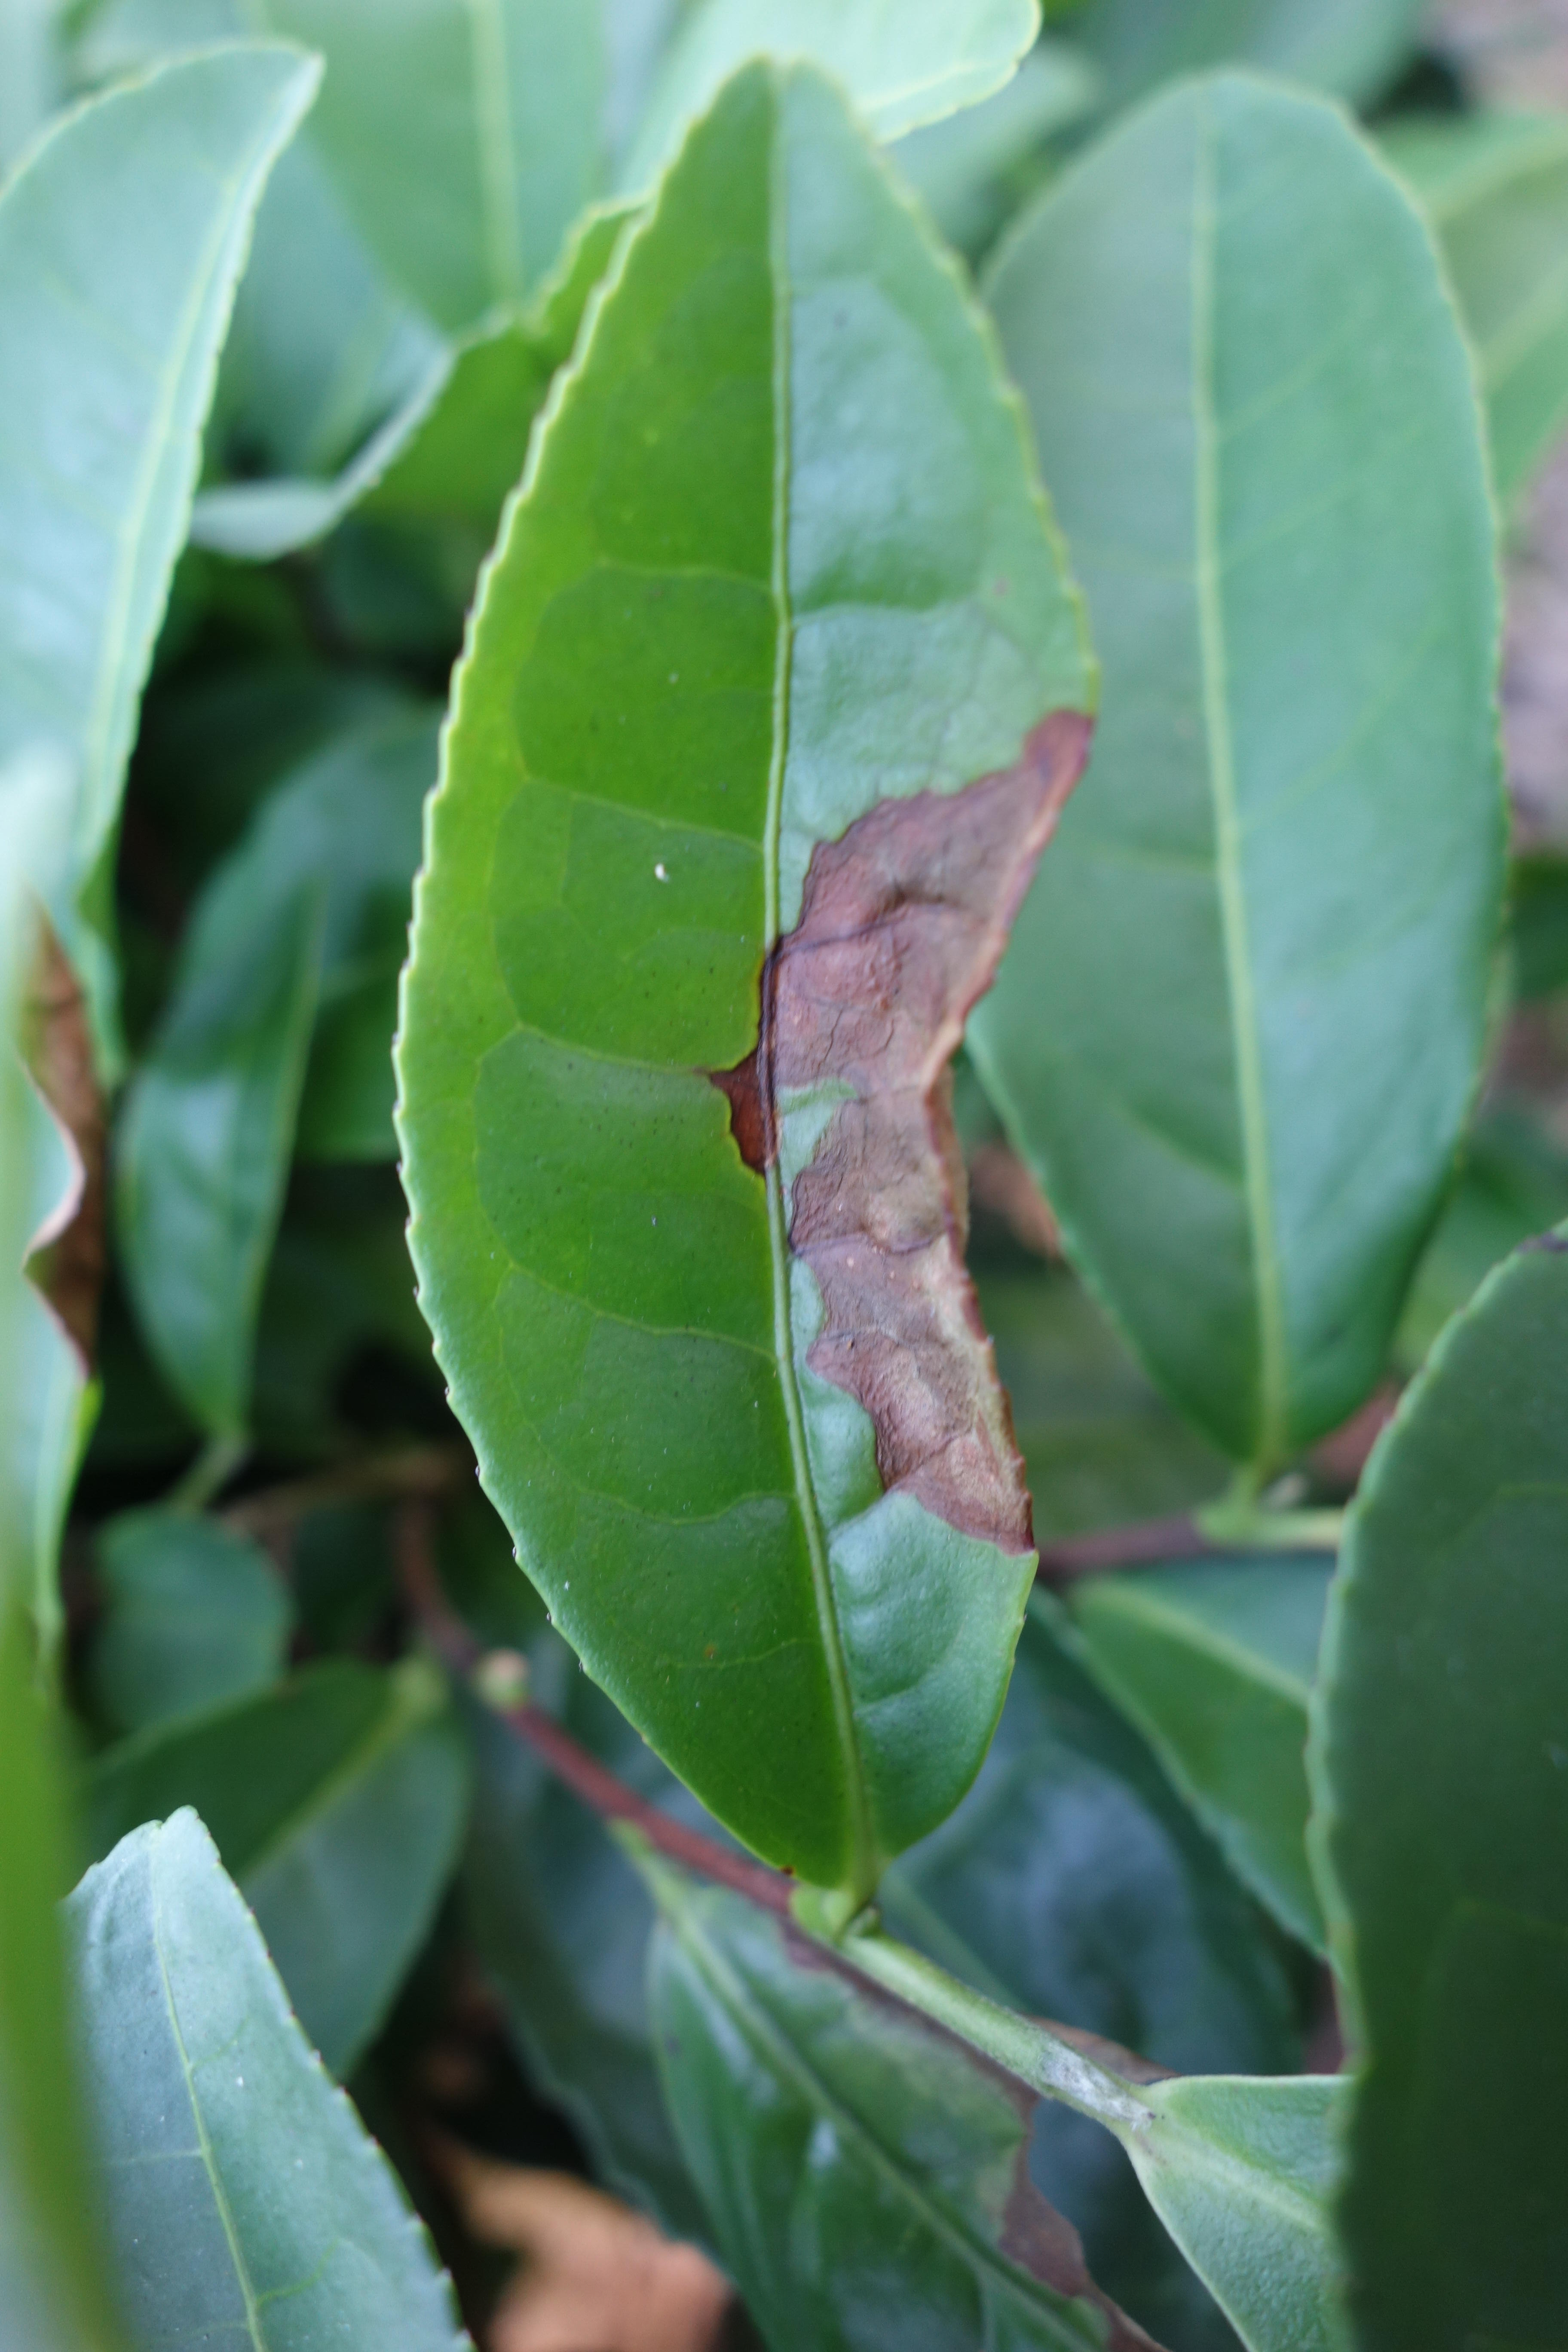tanju_high: (385, 44, 1108, 1893)
